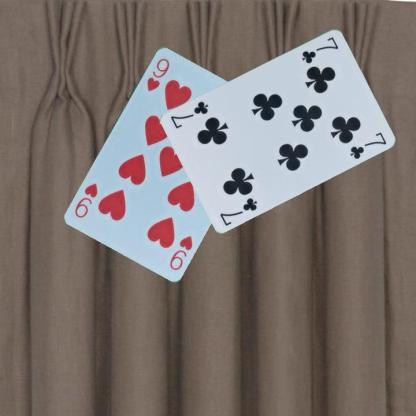7c: (217, 195, 259, 227), (299, 34, 340, 65)
9h: (166, 232, 194, 272), (144, 55, 171, 92)
